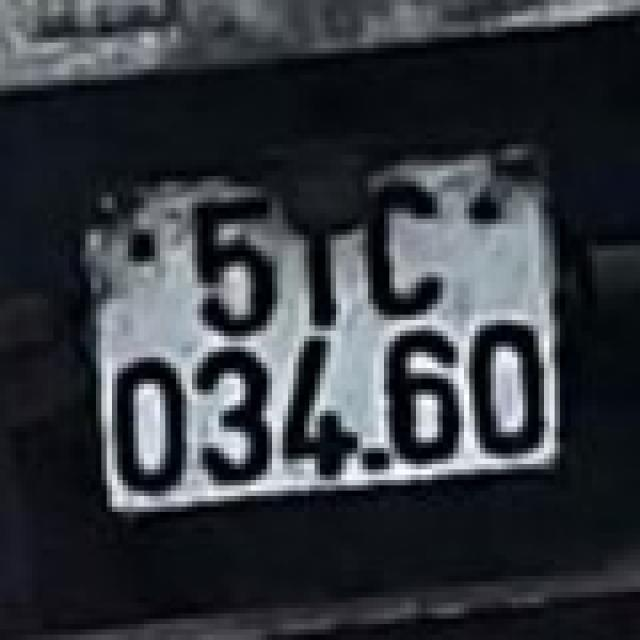0: (108, 359, 186, 496), (464, 323, 544, 454)
1: (297, 189, 344, 331)
3: (195, 348, 272, 492)
4: (283, 338, 355, 482)
5: (192, 193, 280, 336)
6: (380, 328, 463, 463)
C: (366, 177, 444, 319)
